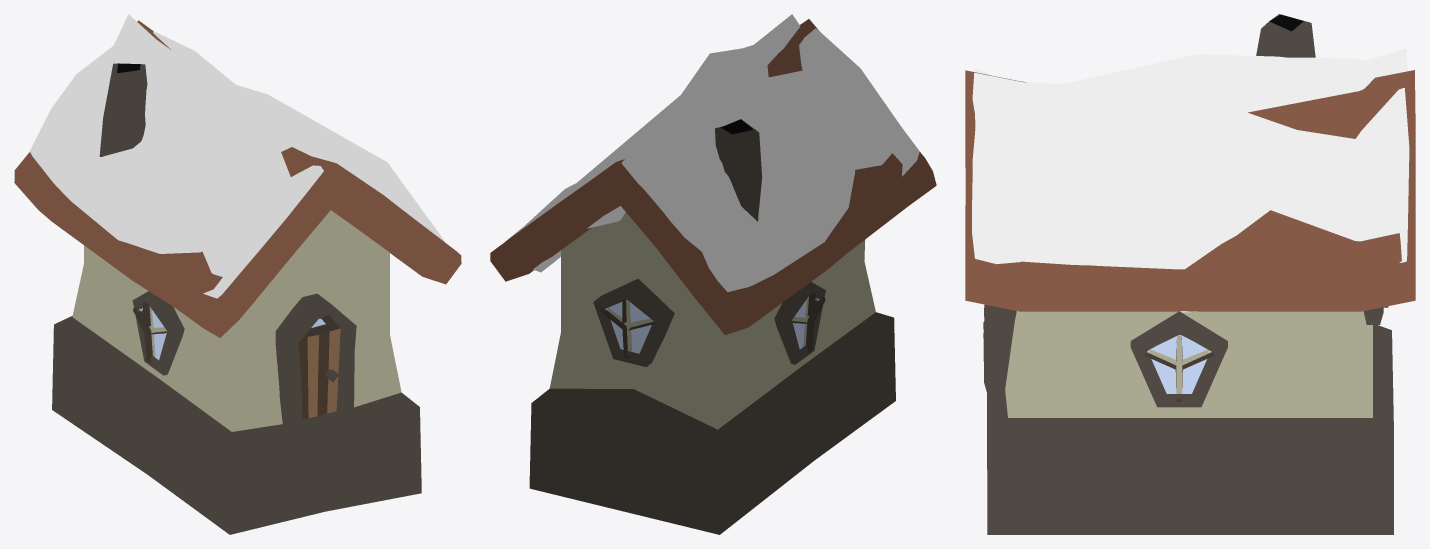
File: house_simple_01.dae
3 renders of one model, left to right at view 1: azimuth 30°, elevation 25°; view 2: azimuth 150°, elevation 25°; view 3: azimuth 270°, elevation 25°, orthographic. The views are drawn at different scales.
Parts seen in each view (by area): view 1: house_simple_01-0; view 2: house_simple_01-0; view 3: house_simple_01-0.
Part boxes in pixels (x1,y1,x2,y2): house_simple_01-0: (14,14,461,534); house_simple_01-0: (490,14,936,534); house_simple_01-0: (965,14,1415,534).
Size of the model in its own units: 6.52 by 9.06 by 8.69.
